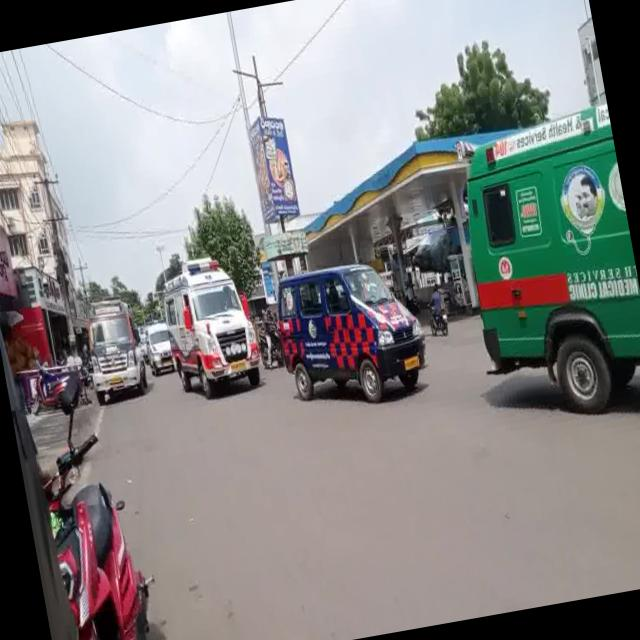ambulance: (442, 94, 640, 432), (265, 235, 442, 438), (146, 240, 273, 418), (74, 282, 153, 415)
